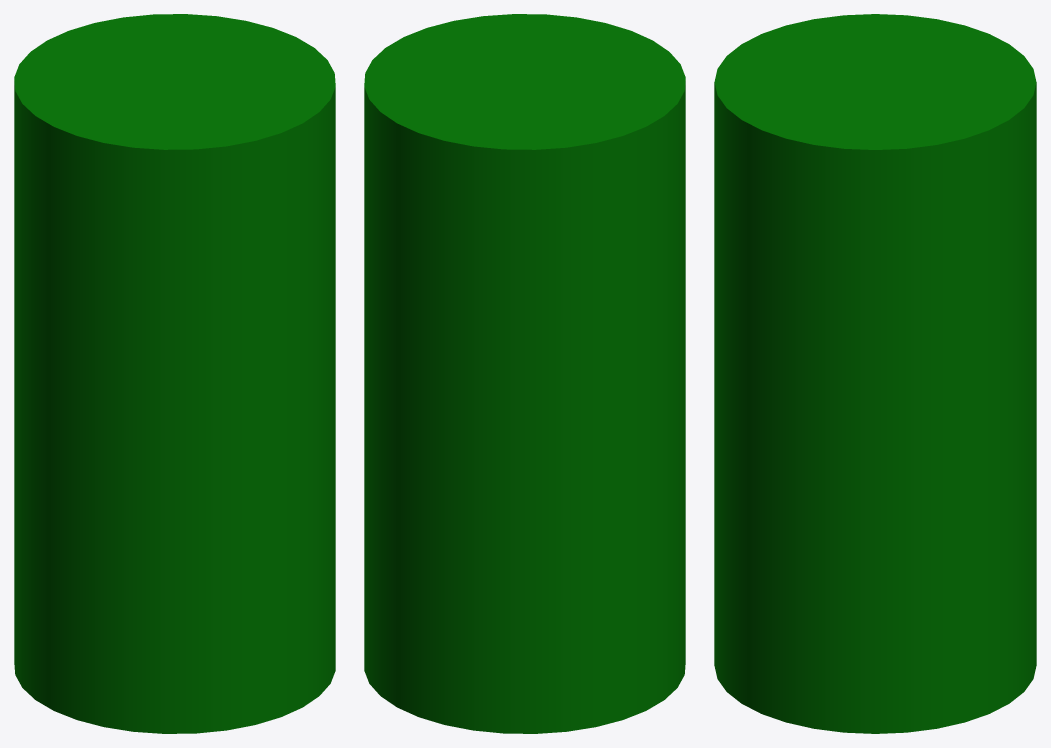
Rendered from Image-1711348150029-2281074164288_43-PE52.fbx.
3 renders of one model, left to right at view 1: azimuth 30°, elevation 25°; view 2: azimuth 150°, elevation 25°; view 3: azimuth 270°, elevation 25°, orthographic.
Parts seen in each view (by area): view 1: CYLINDER 1 of EQUIPMENT /43-PE52; view 2: CYLINDER 1 of EQUIPMENT /43-PE52; view 3: CYLINDER 1 of EQUIPMENT /43-PE52.
Boxes of the visible parts, x1,y1,x2,y2 form: CYLINDER 1 of EQUIPMENT /43-PE52: [14, 14, 335, 733]; CYLINDER 1 of EQUIPMENT /43-PE52: [364, 14, 685, 733]; CYLINDER 1 of EQUIPMENT /43-PE52: [714, 14, 1036, 733].
Size of the model in its own units: 0.1 by 0.1 by 0.2.
